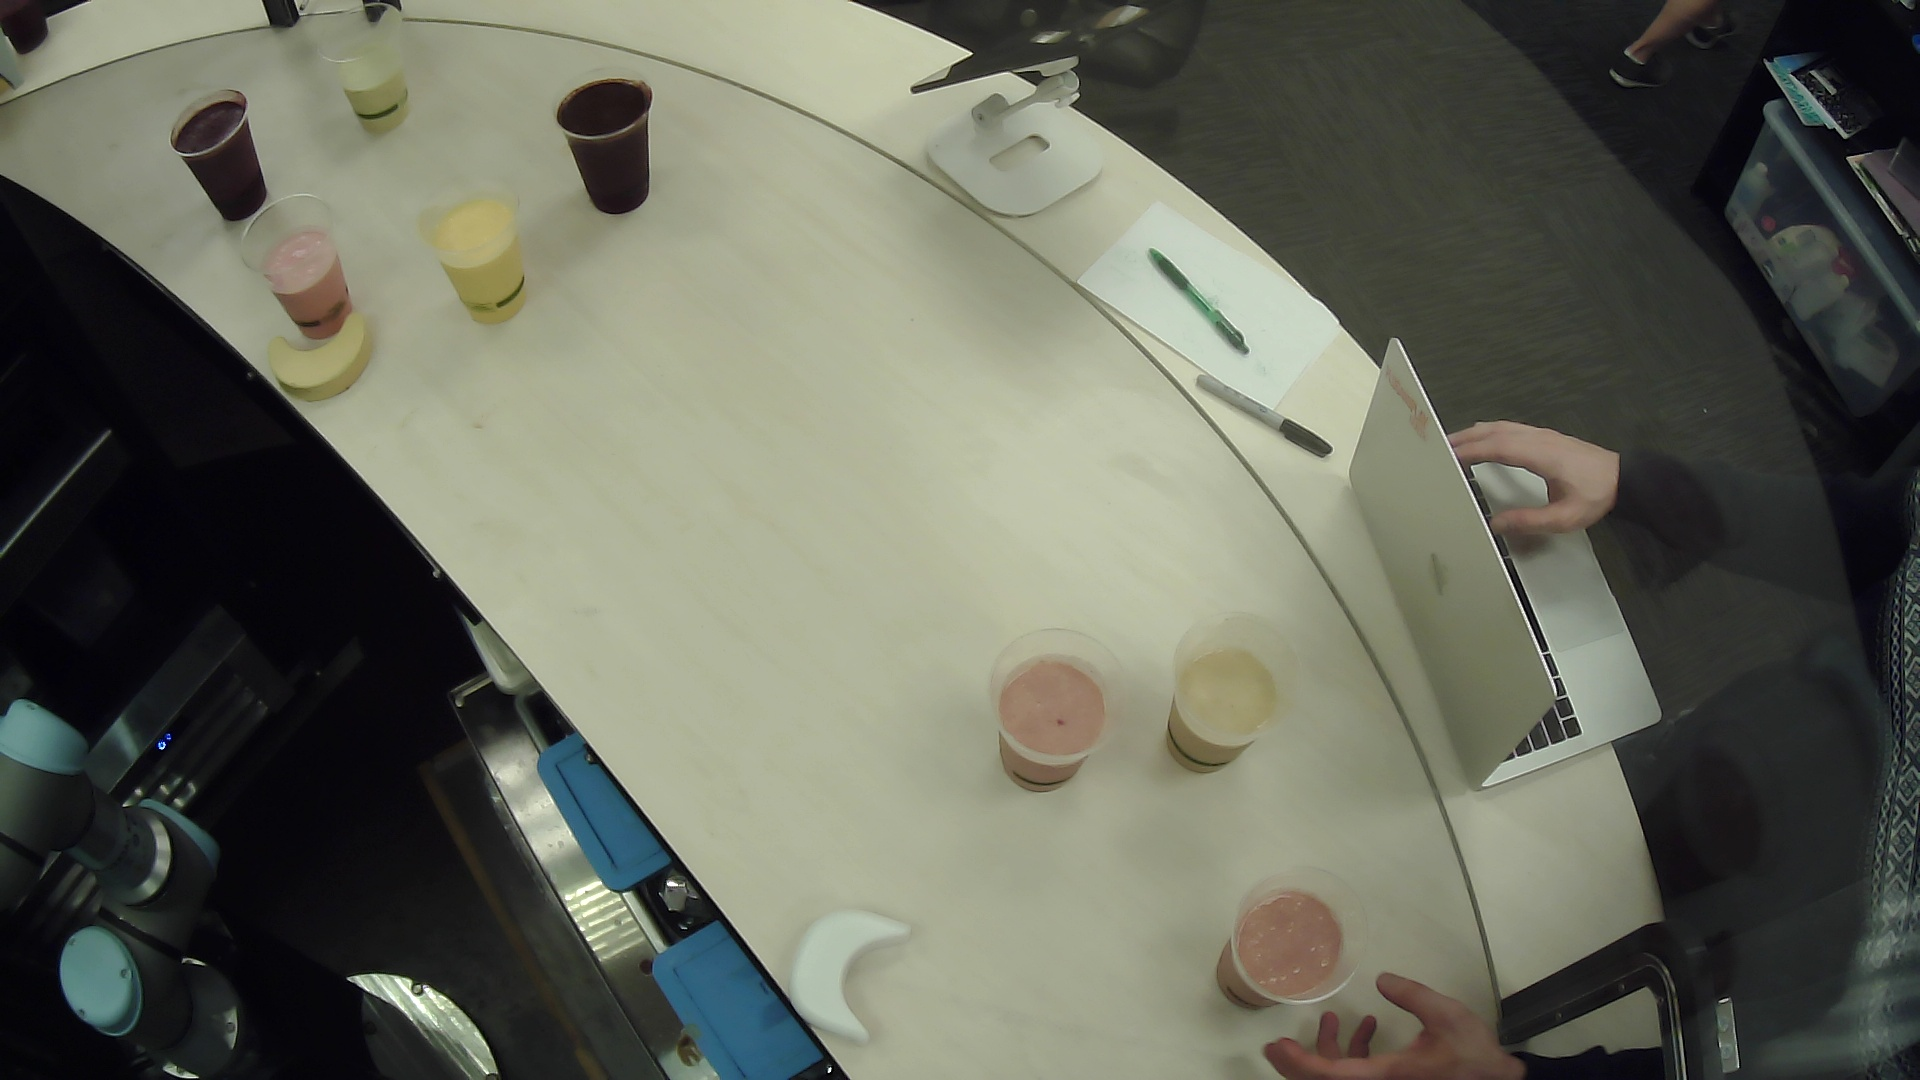Deliver: (775, 886, 942, 1063), (251, 298, 401, 411)
Full_cup: (955, 609, 1142, 831), (1185, 855, 1396, 1051), (1141, 597, 1312, 808), (142, 76, 305, 232), (407, 171, 549, 347), (232, 195, 381, 353), (545, 69, 680, 237), (307, 1, 436, 146)
